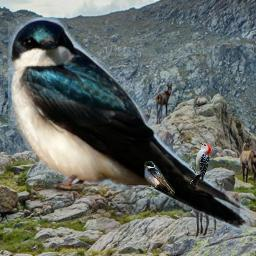Swallow: (8, 17, 250, 232), (144, 161, 175, 196)
Woodpecker: (189, 140, 211, 187)
